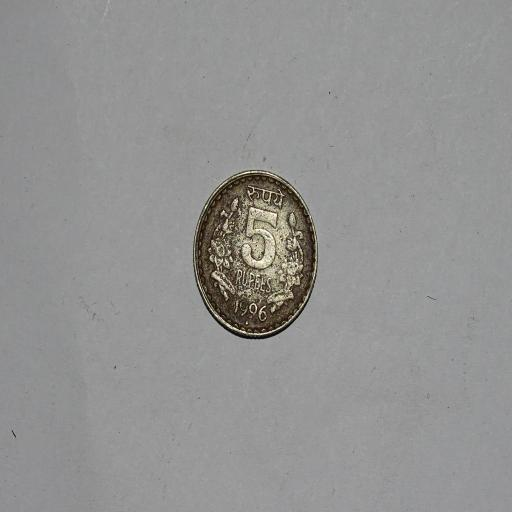rupee5: (188, 171, 321, 346)
